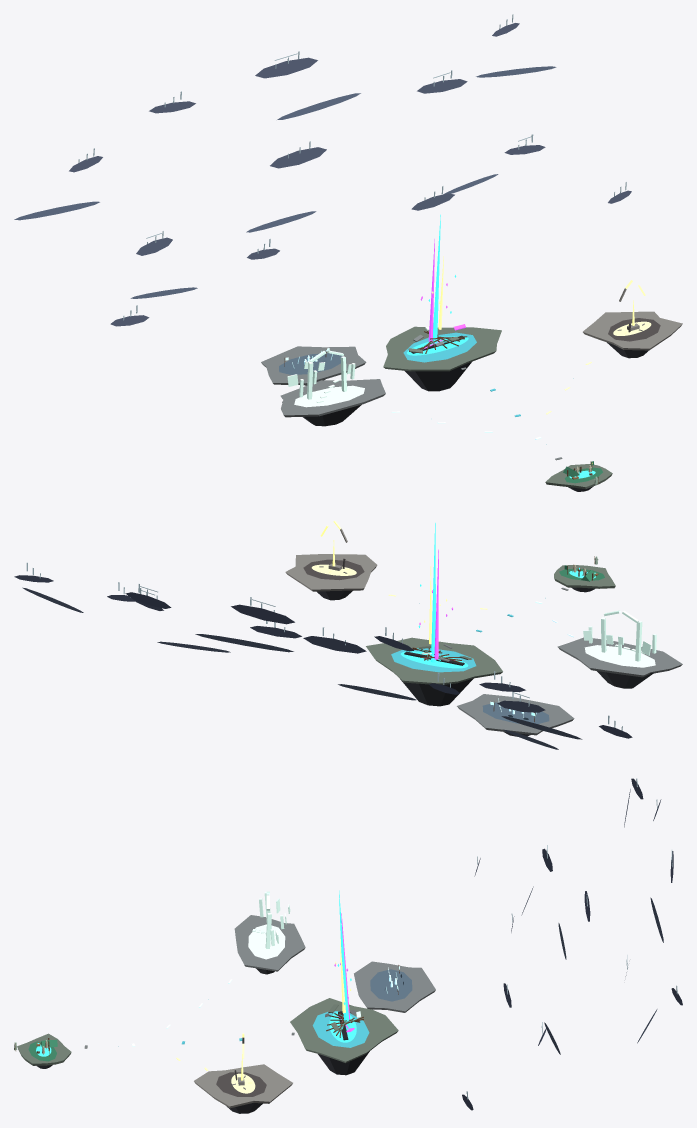
Rendered from memory_wastes_rebuild_v004.glb.
3 renders of one model, top to bottom at view 1: azimuth 30°, elevation 25°; view 2: azimuth 150°, elevation 25°; view 3: azimuth 270°, elevation 25°, orthographic. The views are drawn at different scales.
Parts seen in each view (by area): view 1: MW_WORLDROOT_RIFT_LargestSplitFloatingIsland_IrregularFloati, MW_LOST_RUINS_MidLeftHalfManifestedIsland_IrregularFloatingI, MW_DEAD_GOD_SHRINE_MidRightIsolatedCeremonialIsland_Irregula, MW_ECHO_BATTLEFIELD_FarLeftScarredFlatIsland_IrregularFloati, MW_WORLDROOT_RIFT_LargestSplitFloatingIsland_TaperedVoidUnde, MW_LOST_RUINS_MidLeftHalfManifestedIsland_PaintedMemorySurfa, MW_WORLDROOT_RIFT_LargestSplitFloatingIsland_PaintedMemorySu, MW_SAFE_CAMP_ForegroundStableLowIsland_IrregularFloatingIsla; view 2: MW_WORLDROOT_RIFT_LargestSplitFloatingIsland_IrregularFloati, MW_ECHO_BATTLEFIELD_FarLeftScarredFlatIsland_IrregularFloati, MW_DEAD_GOD_SHRINE_MidRightIsolatedCeremonialIsland_Irregula, MW_LOST_RUINS_MidLeftHalfManifestedIsland_IrregularFloatingI, MW_LOST_RUINS_MidLeftHalfManifestedIsland_PaintedMemorySurfa, MW_WORLDROOT_RIFT_LargestSplitFloatingIsland_TaperedVoidUnde, MW_WORLDROOT_RIFT_LargestSplitFloatingIsland_PaintedMemorySu, MW_SAFE_CAMP_ForegroundStableLowIsland_IrregularFloatingIsla, MW_DEAD_GOD_SHRINE_MidRightIsolatedCeremonialIsland_PaintedM, MW_BACKGROUND_DistantFloatingMemoryIsland_09, MW_BACKGROUND_DistantFloatingMemoryIsland_06, MW_LOST_RUINS_MidLeftHalfManifestedIsland_TaperedVoidUndersi (+6 smaller); view 3: MW_WORLDROOT_RIFT_LargestSplitFloatingIsland_IrregularFloati, MW_ECHO_BATTLEFIELD_FarLeftScarredFlatIsland_IrregularFloati, MW_LOST_RUINS_MidLeftHalfManifestedIsland_IrregularFloatingI, MW_DEAD_GOD_SHRINE_MidRightIsolatedCeremonialIsland_Irregula, MW_WORLDROOT_RIFT_LargestSplitFloatingIsland_PaintedMemorySu, MW_LOST_RUINS_MidLeftHalfManifestedIsland_PaintedMemorySurfa, MW_SAFE_CAMP_ForegroundStableLowIsland_IrregularFloatingIsla, MW_ECHO_BATTLEFIELD_FarLeftScarredFlatIsland_PaintedMemorySu, MW_DEAD_GOD_SHRINE_MidRightIsolatedCeremonialIsland_PaintedM, MW_WORLDROOT_RIFT_LargestSplitFloatingIsland_TaperedVoidUnde.
Part boxes in pixels (box(x1,y1,x2,y2)): MW_WORLDROOT_RIFT_LargestSplitFloatingIsland_IrregularFloati: box(383, 326, 501, 371); MW_LOST_RUINS_MidLeftHalfManifestedIsland_IrregularFloatingI: box(280, 379, 385, 417); MW_DEAD_GOD_SHRINE_MidRightIsolatedCeremonialIsland_Irregula: box(583, 311, 682, 350); MW_ECHO_BATTLEFIELD_FarLeftScarredFlatIsland_IrregularFloati: box(261, 346, 366, 385); MW_WORLDROOT_RIFT_LargestSplitFloatingIsland_TaperedVoidUnde: box(404, 362, 471, 391); MW_LOST_RUINS_MidLeftHalfManifestedIsland_PaintedMemorySurfa: box(294, 385, 364, 407); MW_WORLDROOT_RIFT_LargestSplitFloatingIsland_PaintedMemorySu: box(403, 332, 476, 362); MW_SAFE_CAMP_ForegroundStableLowIsland_IrregularFloatingIsla: box(545, 464, 612, 489); MW_WORLDROOT_RIFT_LargestSplitFloatingIsland_IrregularFloati: box(366, 637, 502, 684); MW_ECHO_BATTLEFIELD_FarLeftScarredFlatIsland_IrregularFloati: box(457, 694, 574, 735); MW_DEAD_GOD_SHRINE_MidRightIsolatedCeremonialIsland_Irregula: box(285, 554, 377, 591); MW_LOST_RUINS_MidLeftHalfManifestedIsland_IrregularFloatingI: box(557, 637, 682, 677); MW_LOST_RUINS_MidLeftHalfManifestedIsland_PaintedMemorySurfa: box(584, 645, 655, 667); MW_WORLDROOT_RIFT_LargestSplitFloatingIsland_TaperedVoidUnde: box(400, 678, 473, 706); MW_WORLDROOT_RIFT_LargestSplitFloatingIsland_PaintedMemorySu: box(391, 648, 476, 672); MW_SAFE_CAMP_ForegroundStableLowIsland_IrregularFloatingIsla: box(554, 565, 615, 588); MW_DEAD_GOD_SHRINE_MidRightIsolatedCeremonialIsland_PaintedM: box(303, 559, 364, 580); MW_BACKGROUND_DistantFloatingMemoryIsland_09: box(231, 604, 294, 624); MW_BACKGROUND_DistantFloatingMemoryIsland_06: box(303, 636, 366, 653); MW_LOST_RUINS_MidLeftHalfManifestedIsland_TaperedVoidUndersi: box(597, 671, 654, 688); MW_WORLDROOT_RIFT_LargestSplitFloatingIsland_IrregularFloati: box(290, 998, 398, 1062); MW_ECHO_BATTLEFIELD_FarLeftScarredFlatIsland_IrregularFloati: box(354, 961, 435, 1012); MW_LOST_RUINS_MidLeftHalfManifestedIsland_IrregularFloatingI: box(234, 915, 305, 971); MW_DEAD_GOD_SHRINE_MidRightIsolatedCeremonialIsland_Irregula: box(194, 1064, 292, 1108); MW_WORLDROOT_RIFT_LargestSplitFloatingIsland_PaintedMemorySu: box(312, 1011, 369, 1047); MW_LOST_RUINS_MidLeftHalfManifestedIsland_PaintedMemorySurfa: box(248, 924, 285, 959); MW_SAFE_CAMP_ForegroundStableLowIsland_IrregularFloatingIsla: box(17, 1033, 71, 1065); MW_ECHO_BATTLEFIELD_FarLeftScarredFlatIsland_PaintedMemorySu: box(370, 969, 412, 1001); MW_DEAD_GOD_SHRINE_MidRightIsolatedCeremonialIsland_PaintedM: box(216, 1072, 266, 1096); MW_WORLDROOT_RIFT_LargestSplitFloatingIsland_TaperedVoidUnde: box(318, 1051, 369, 1075).
Size of the model in its own units: 131 by 48.5 by 134.
